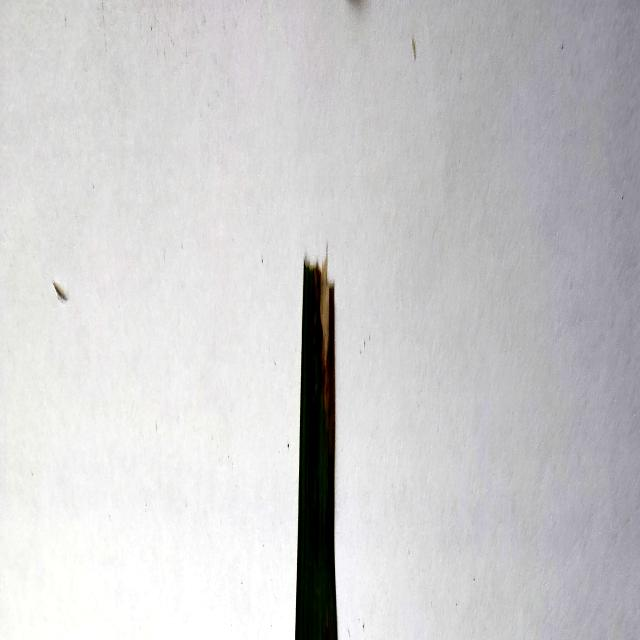NBS: (316, 481, 318, 565), (326, 630, 329, 640)
